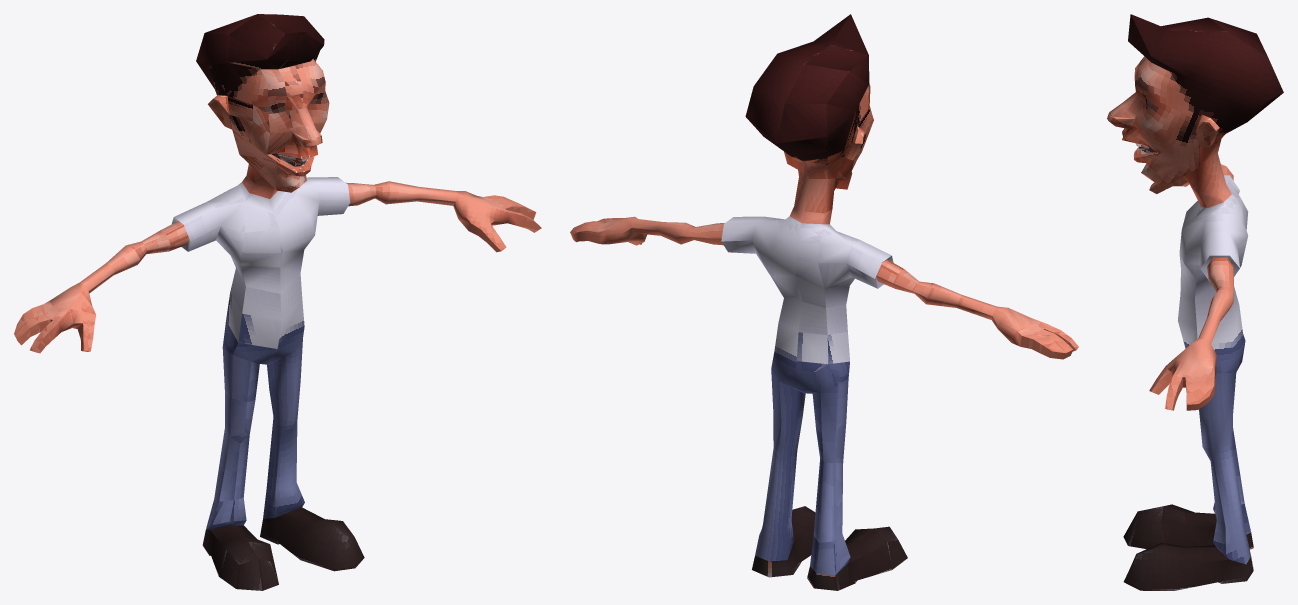
Rendered from MFD_Main.fbx.
3 renders of one model, left to right at view 1: azimuth 30°, elevation 25°; view 2: azimuth 150°, elevation 25°; view 3: azimuth 270°, elevation 25°, orthographic. The views are drawn at different scales.
Visible parts, largest first — view 1: polymsh; view 2: polymsh; view 3: polymsh.
Part boxes in pixels (x1,y1,x2,y2): polymsh: [14, 14, 541, 590]; polymsh: [570, 14, 1078, 590]; polymsh: [1107, 14, 1283, 590].
Size of the model in its own units: 6.92 by 6.96 by 2.04.
